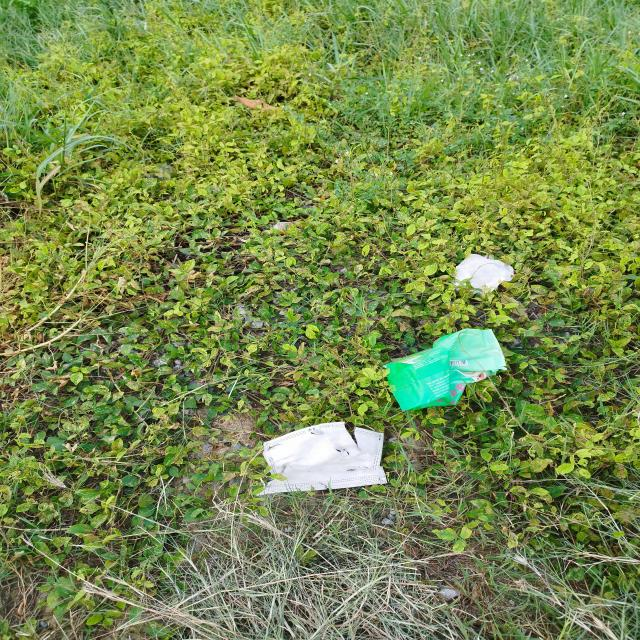bag: (386, 328, 507, 411), (456, 254, 514, 295)
mask: (256, 421, 388, 497)
